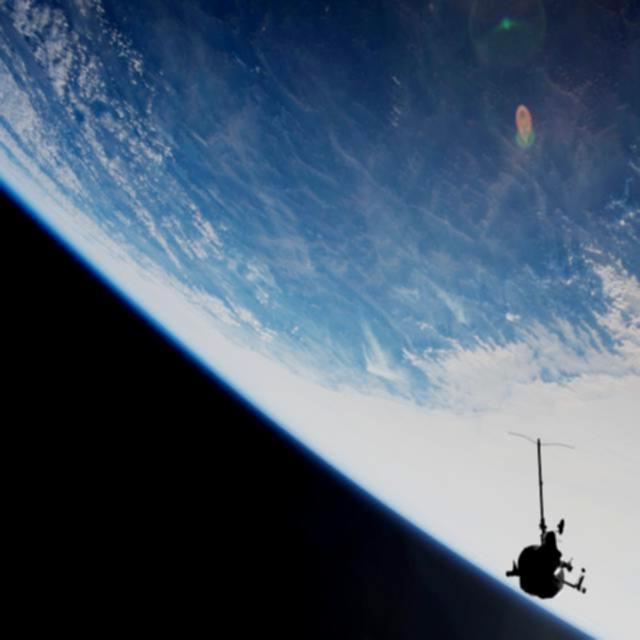satellite: (500, 422, 588, 614)
